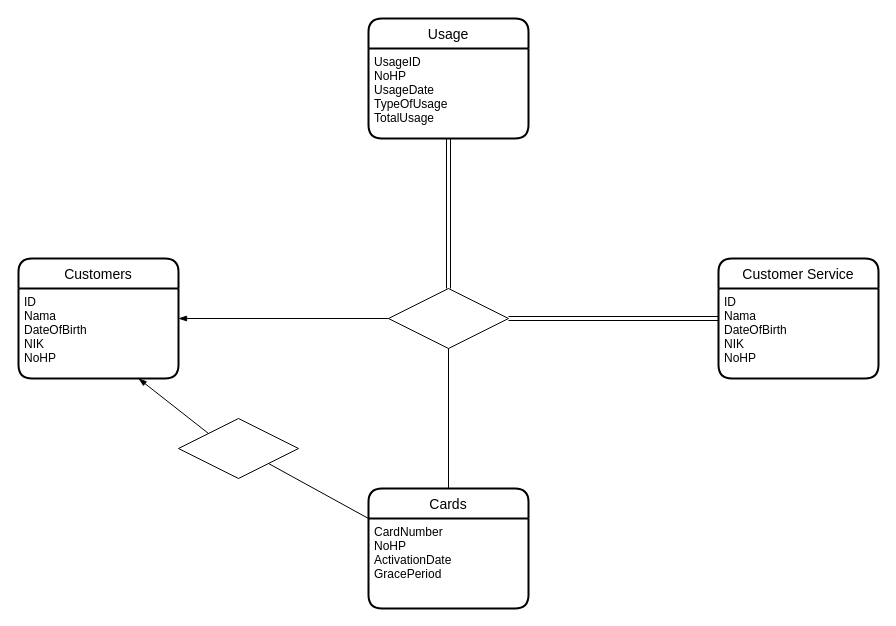
The diagram is 896 pixels wide and 626 high, and some of its shapes have lost their labels. Here are the shapes that lost their labels. From the top down, the centre of each, then its label:
the point at 448,318: Complain
the point at 238,448: Have
